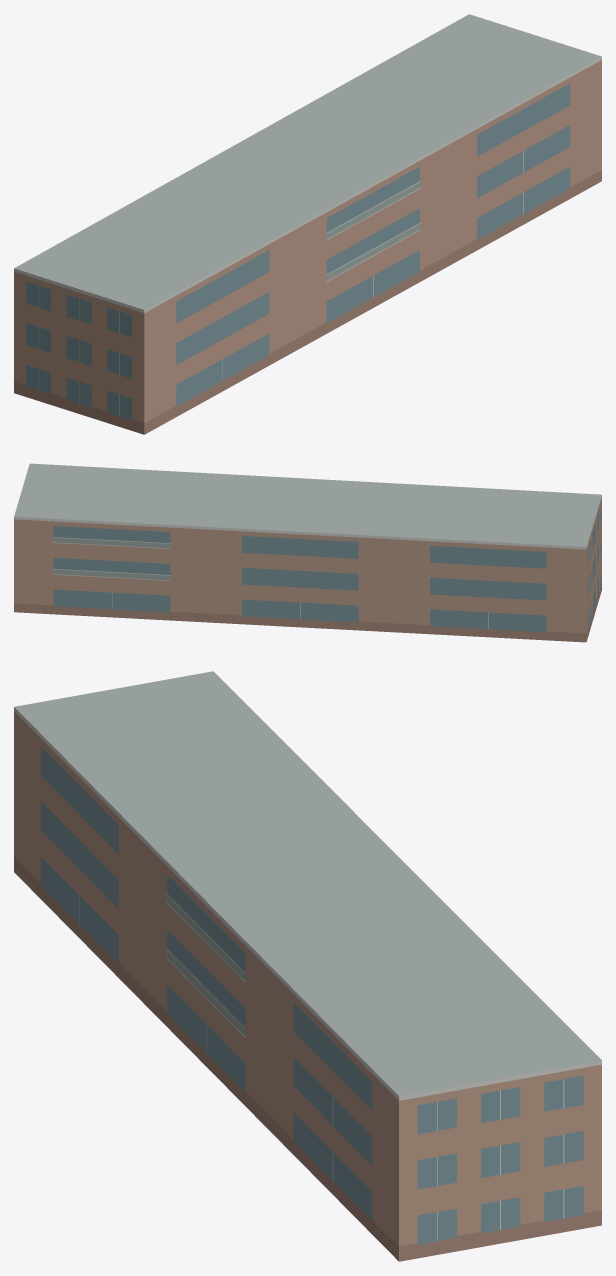
File: survey-upis-32629794.glb
3 views of the same model, one above another, from view 1: azimuth 30°, elevation 25°; view 2: azimuth 150°, elevation 25°; view 3: azimuth 270°, elevation 25° (orthographic). The views are drawn at different scales.
Parts seen in each view (by area): view 1: survey-upis-32629794.tmp; view 2: survey-upis-32629794.tmp; view 3: survey-upis-32629794.tmp.
Part boxes in pixels (box(x1,y1,x2,y2)): survey-upis-32629794.tmp: box(14, 14, 601, 434); survey-upis-32629794.tmp: box(14, 463, 601, 642); survey-upis-32629794.tmp: box(14, 671, 601, 1261).
Bounding box in the file's own units: 50.49 × 9.15 × 29.5.
